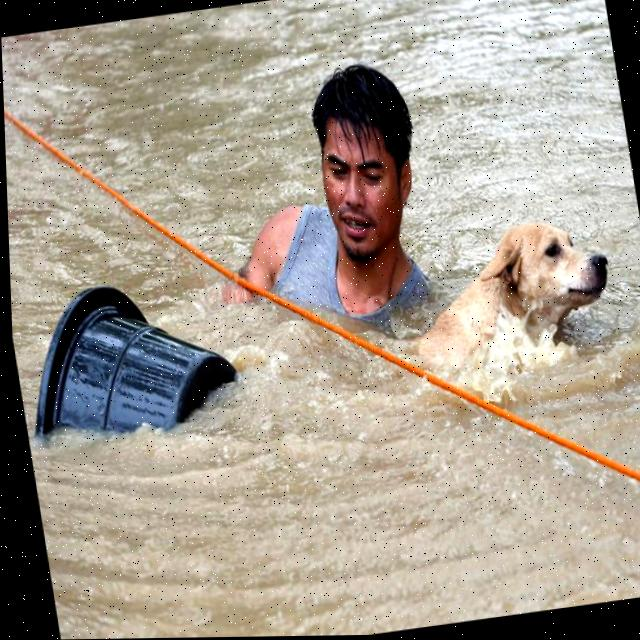civilian: (187, 33, 480, 399)
dog: (379, 201, 634, 417)
